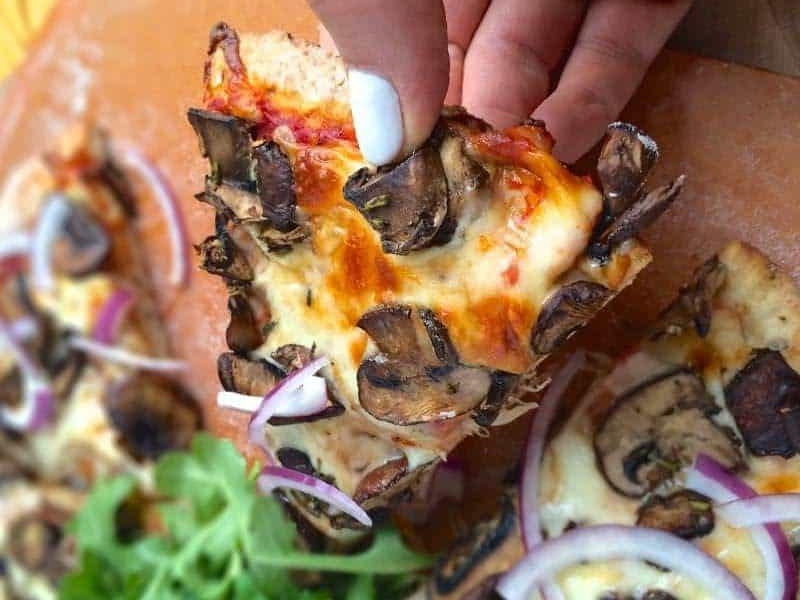champignon: (354, 307, 497, 426)
